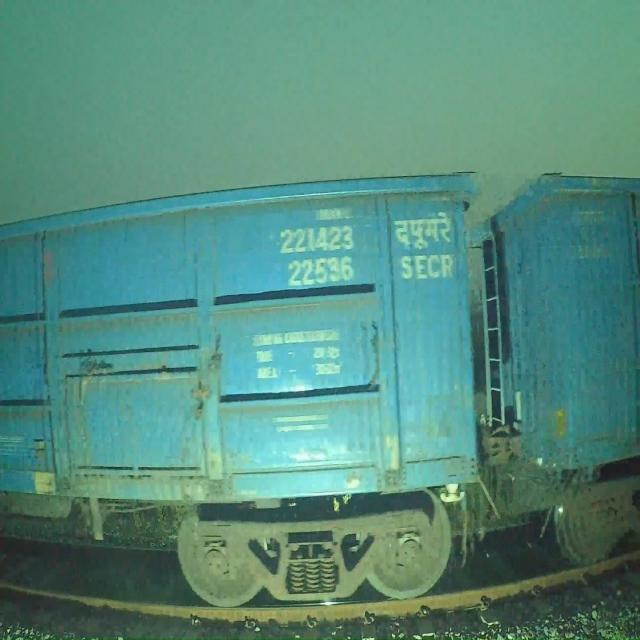WAgon-uic: (0, 168, 478, 605), (395, 175, 638, 560)
uic: (274, 223, 362, 289)
